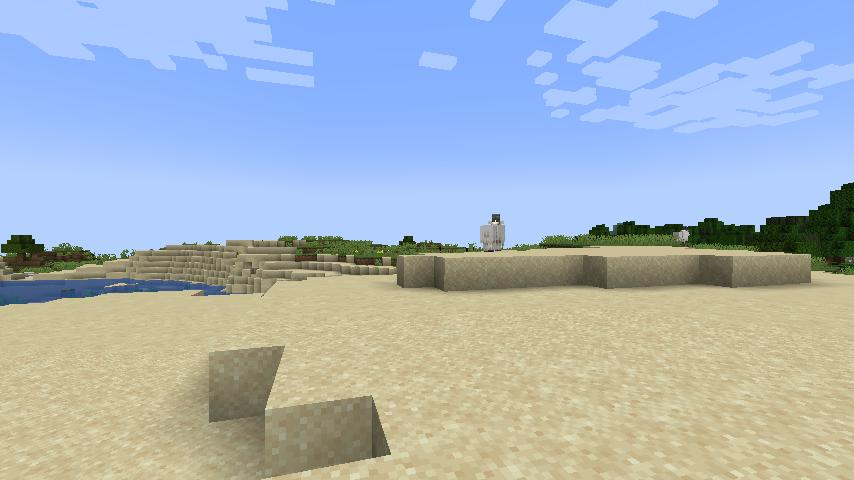goat: (479, 213, 507, 253)
sheep: (673, 229, 690, 244)
